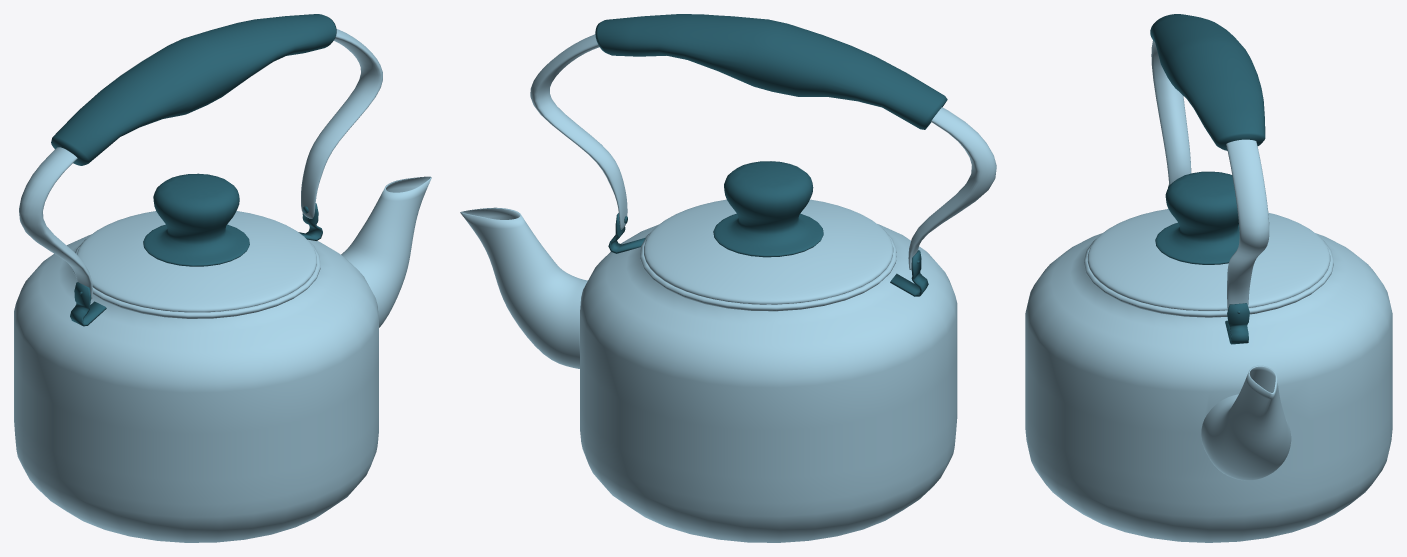
The model's file is kettle.fbx.
The picture shows the model from 3 angles, left to right: view 1: azimuth 30°, elevation 25°; view 2: azimuth 150°, elevation 25°; view 3: azimuth 270°, elevation 25°; orthographic projection. The views are drawn at different scales.
Visible parts, largest first — view 1: kettle, Cylinder, Circle.003, Circle.004, Cube, Circle.002, Plane; view 2: kettle, Cylinder, Circle.003, Circle.002, Circle.004, Cube, Plane; view 3: kettle, Circle.003, Cylinder, Cube, Circle.002, Circle.004, Plane.
Boxes of the visible parts, x1,y1,x2,y2 form: kettle: [14, 234, 378, 542]; Cylinder: [51, 14, 336, 165]; Circle.003: [77, 211, 316, 312]; Circle.004: [143, 173, 249, 266]; Cube: [19, 29, 382, 299]; Circle.002: [341, 176, 431, 327]; Plane: [70, 203, 322, 326]; kettle: [580, 224, 957, 542]; Cylinder: [595, 14, 947, 129]; Circle.003: [644, 199, 893, 304]; Circle.002: [460, 207, 587, 368]; Circle.004: [713, 161, 823, 257]; Cube: [530, 34, 996, 269]; Plane: [608, 213, 928, 296]; kettle: [1025, 233, 1392, 542]; Circle.003: [1087, 209, 1330, 310]; Cylinder: [1150, 14, 1265, 150]; Cube: [1151, 40, 1269, 310]; Circle.002: [1201, 365, 1291, 480]; Circle.004: [1155, 171, 1239, 264]; Plane: [1168, 185, 1249, 344].
Bounding box in the file's own units: 40.91 × 37.28 × 27.9.
